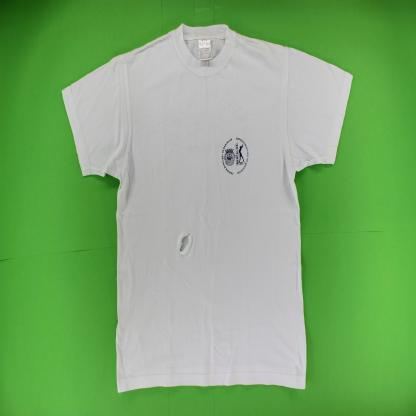hole: (179, 232, 191, 253)
